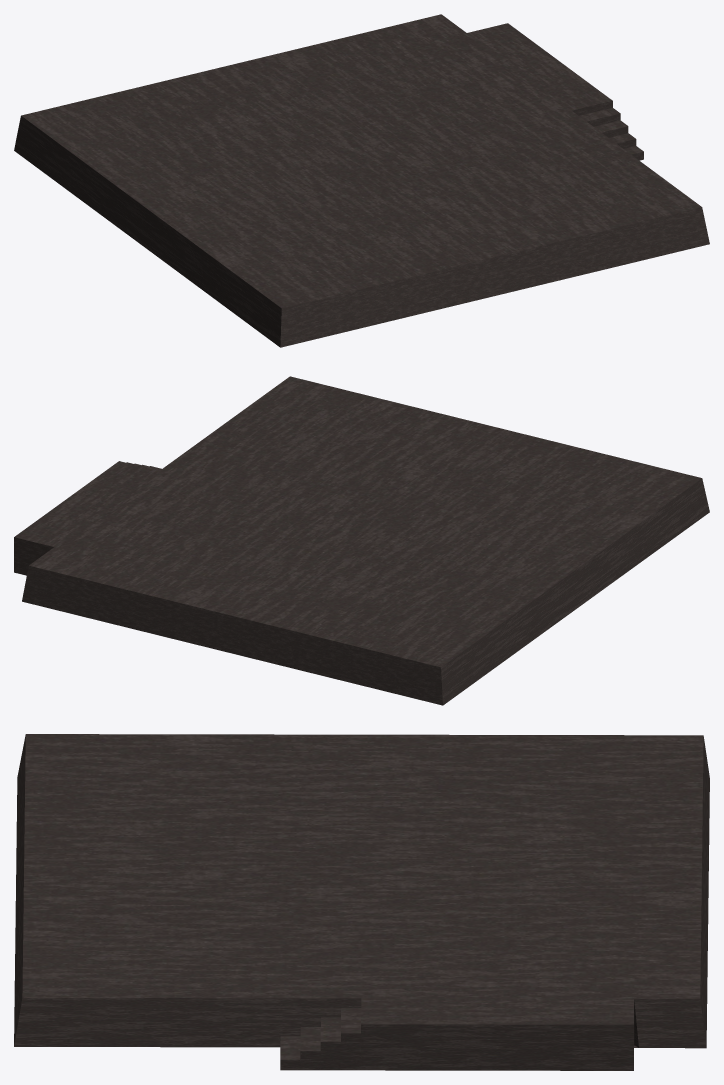
3 views of the same model, one above another, from view 1: azimuth 30°, elevation 25°; view 2: azimuth 150°, elevation 25°; view 3: azimuth 270°, elevation 25° (orthographic). The views are drawn at different scales.
Visible parts, largest first — view 1: ShipLanding_Baked; view 2: ShipLanding_Baked; view 3: ShipLanding_Baked.
Boxes of the visible parts, bbox=[...] form: ShipLanding_Baked: bbox=[14, 14, 709, 347]; ShipLanding_Baked: bbox=[14, 376, 709, 705]; ShipLanding_Baked: bbox=[14, 734, 709, 1070].
Bounding box in the file's own units: 14.04 × 1.03 × 14.07.
Materials: 1 (1 with a texture image).
